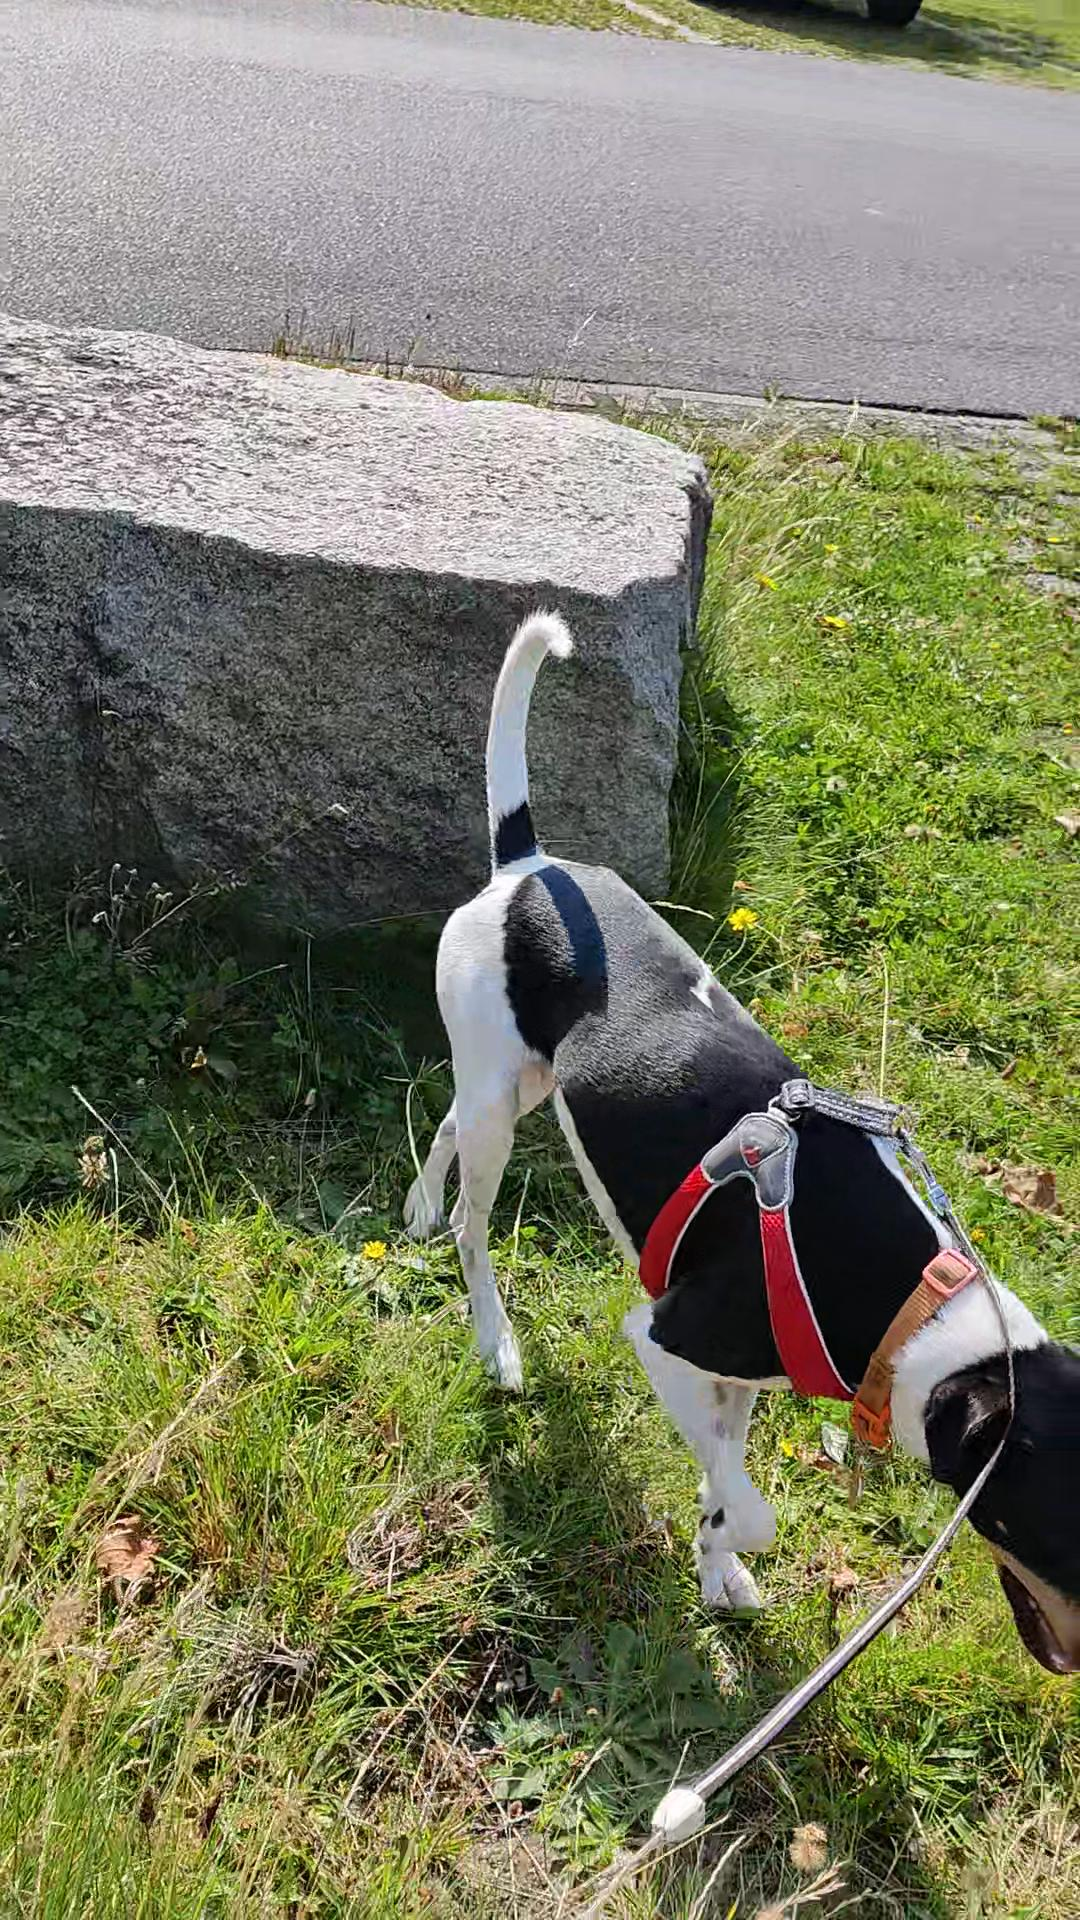Dog: (386, 603, 1079, 1687)
